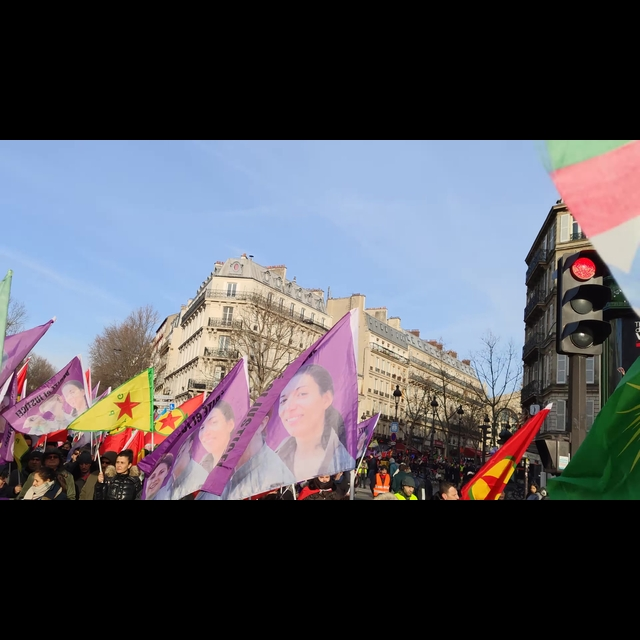YPG: (68, 367, 155, 433)
